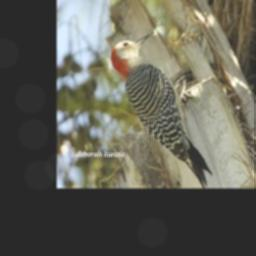Woodpecker: (107, 33, 213, 188)
